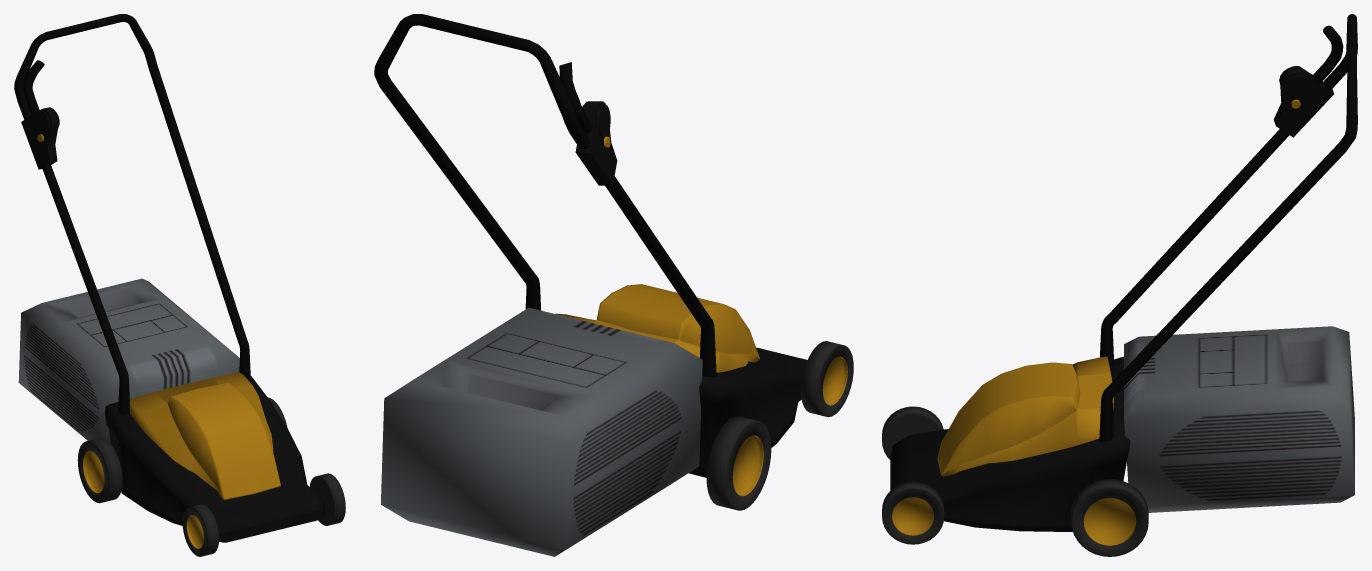
The model's file is mower.obj.
The picture shows the model from 3 angles, left to right: view 1: azimuth 30°, elevation 25°; view 2: azimuth 150°, elevation 25°; view 3: azimuth 270°, elevation 25°; orthographic projection. The views are drawn at different scales.
Visible parts, largest first — view 1: Cube.001_Cube.006, mower.002_Cube.001, mower.004_Cube.004, mower_Cube.003, mower.001_Cube.000, Cube, mower.005_Cube.005; view 2: Cube.001_Cube.006, mower_Cube.003, mower.001_Cube.000, mower.004_Cube.004, mower.002_Cube.001, Cube, mower.005_Cube.005; view 3: Cube.001_Cube.006, mower.002_Cube.001, mower.004_Cube.004, mower_Cube.003, mower.001_Cube.000, Cube, mower.005_Cube.005.
Boxes of the visible parts, x1,y1,x2,y2 form: Cube.001_Cube.006: (18,278,239,442); mower.002_Cube.001: (105,376,324,542); mower.004_Cube.004: (129,372,280,499); mower_Cube.003: (14,14,250,415); mower.001_Cube.000: (77,397,345,556); Cube: (21,107,59,169); mower.005_Cube.005: (23,60,44,115); Cube.001_Cube.006: (381,307,702,556); mower_Cube.003: (374,14,716,377); mower.001_Cube.000: (706,341,853,510); mower.004_Cube.004: (555,284,760,372); mower.002_Cube.001: (689,347,807,477); Cube: (575,101,617,185); mower.005_Cube.005: (559,62,592,133); Cube.001_Cube.006: (1124,326,1354,512); mower.002_Cube.001: (890,356,1130,531); mower.004_Cube.004: (937,356,1113,476); mower_Cube.003: (1099,14,1357,442); mower.001_Cube.000: (882,406,1148,556); Cube: (1273,66,1333,137); mower.005_Cube.005: (1303,25,1343,97).
Bounding box in the file's own units: 51.04 × 104 × 96.48.
Materials: 5 (1 with a texture image).
